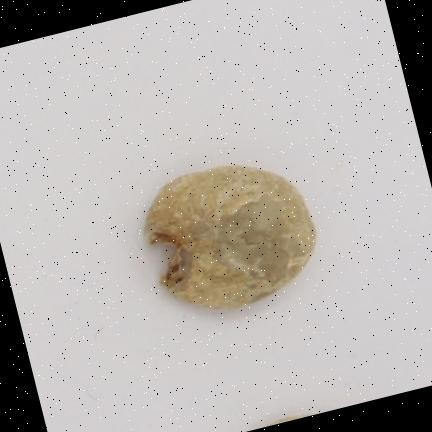cut: (145, 165, 315, 307)
